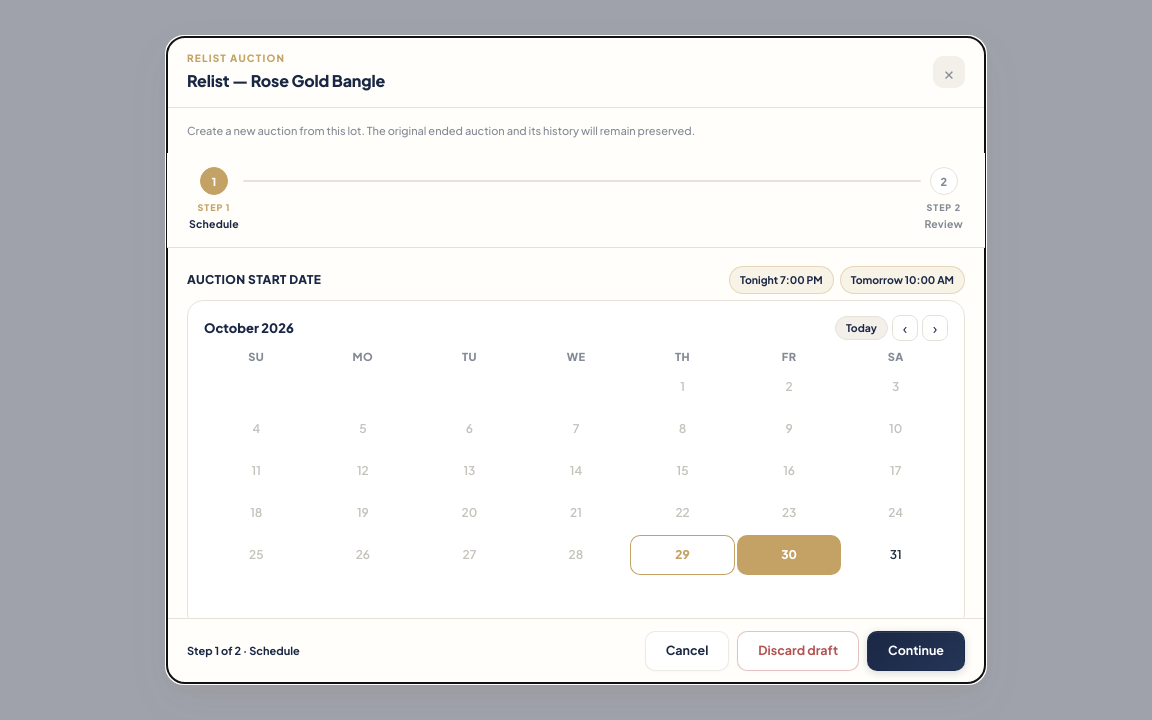
Scenario: Review shows inherited item, price, increment; Edit schedule only
The width and height of the screenshot is (1152, 720).
Click the button "Continue".
click(916, 651)  # box [867,631,965,671]
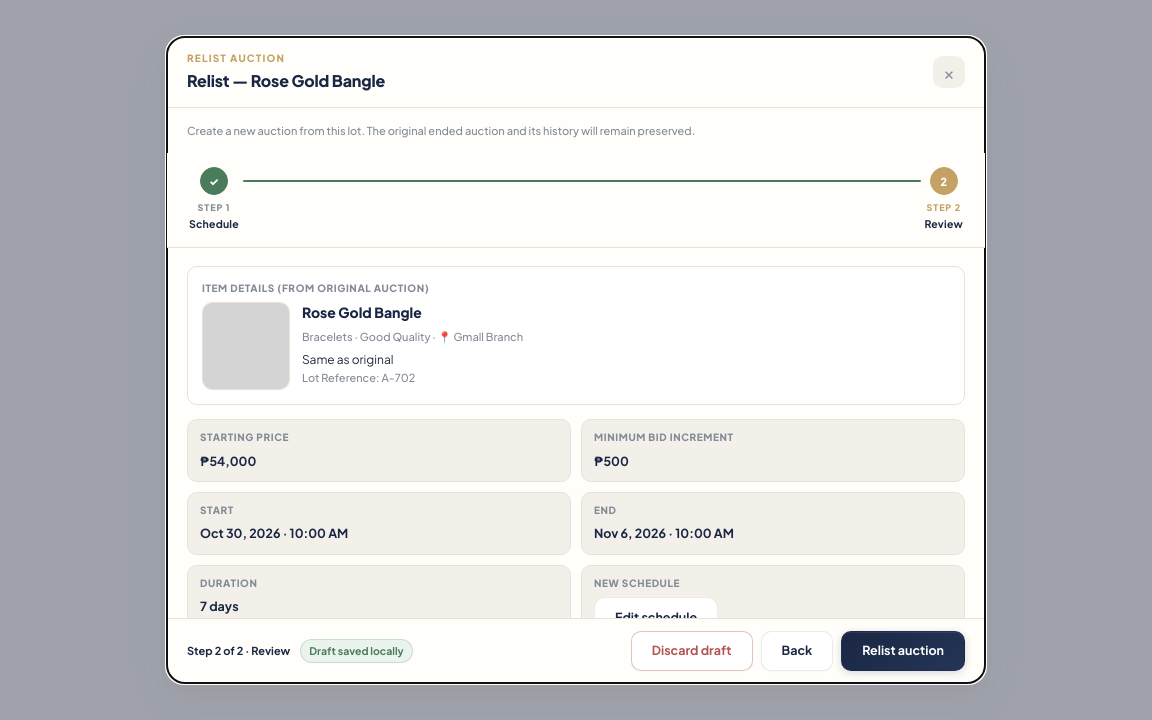
Check: the text "Rose Gold Bangle" is shown, box [302,303,422,321]
Check: the text "₱54,000" is shown, box [200,452,256,468]
Check: the text "₱500" is shown, box [594,452,629,468]
